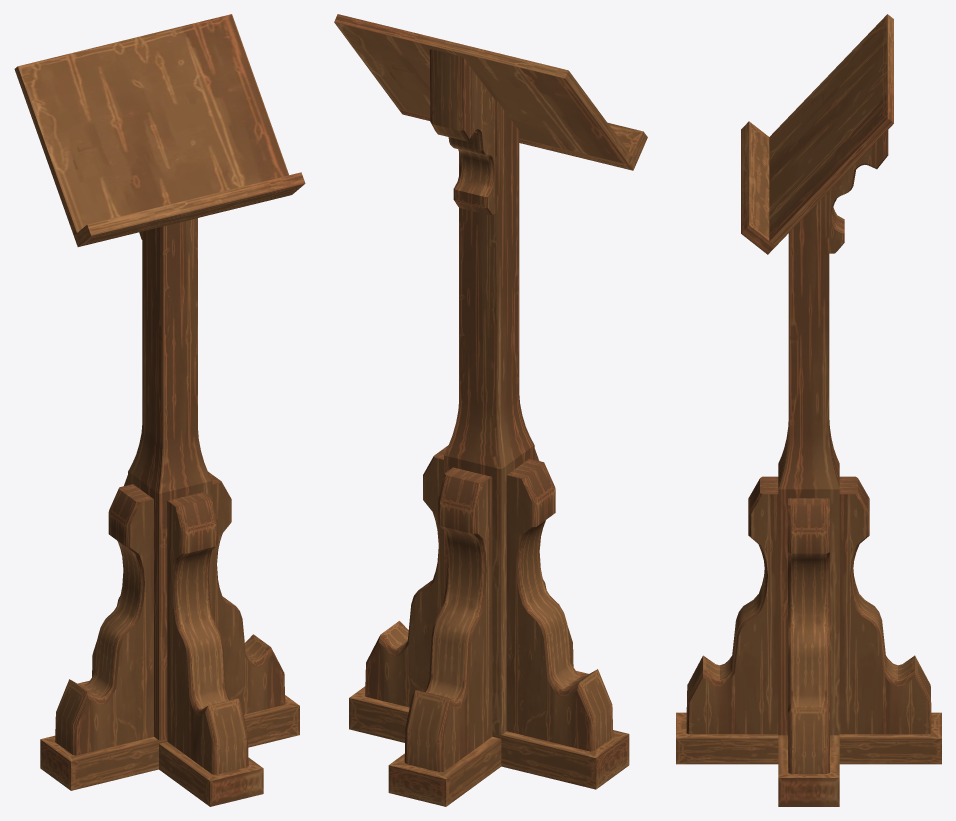
Rendered from BookStand.glb.
The picture shows the model from 3 angles, left to right: view 1: azimuth 30°, elevation 25°; view 2: azimuth 150°, elevation 25°; view 3: azimuth 270°, elevation 25°; orthographic projection. The views are drawn at different scales.
Visible parts, largest first — view 1: BookStand; view 2: BookStand; view 3: BookStand.
Part boxes in pixels (bbox=[...]): BookStand: bbox=[14, 14, 305, 806]; BookStand: bbox=[334, 14, 647, 806]; BookStand: bbox=[676, 14, 941, 806].
Bounding box in the file's own units: 0.5071 × 1.45 × 0.5112.
1 material, 1 textured.
